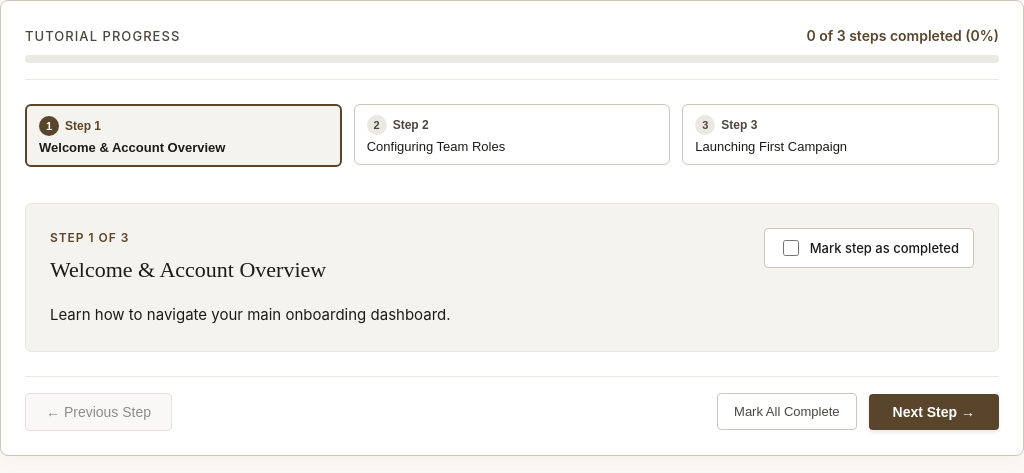
Test case: TutorialStepper Component › marks all steps complete when Mark All Complete button is clicked
Step 1. Click the button with test id "mark-all-complete-button" → (787, 412), box x1=717 y1=393 x2=856 y2=430
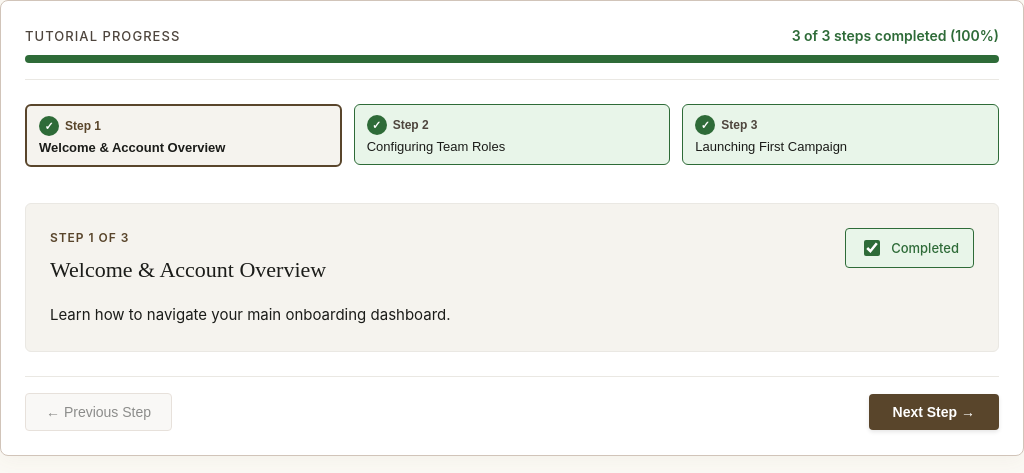
Expected: the text "3 of 3 steps completed (100%)" is shown, x1=792 y1=25 x2=999 y2=47
